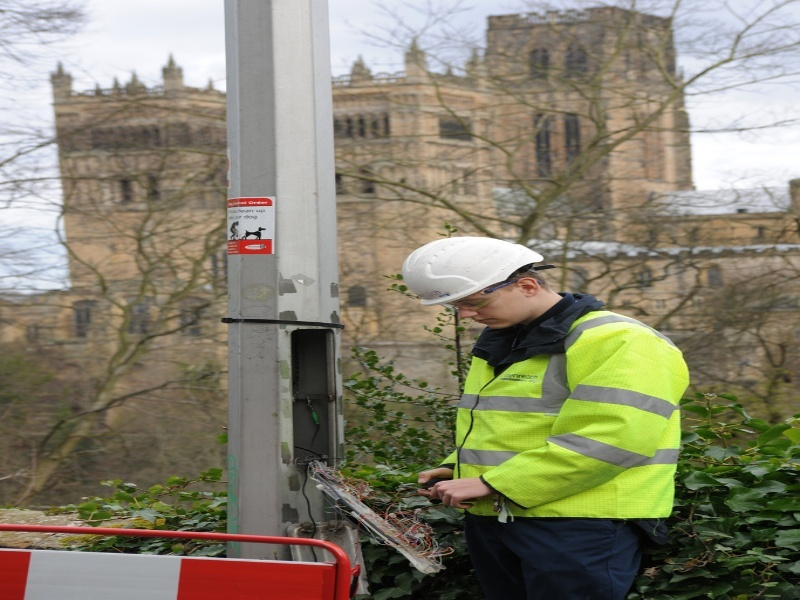Baret: (400, 236, 546, 310)
